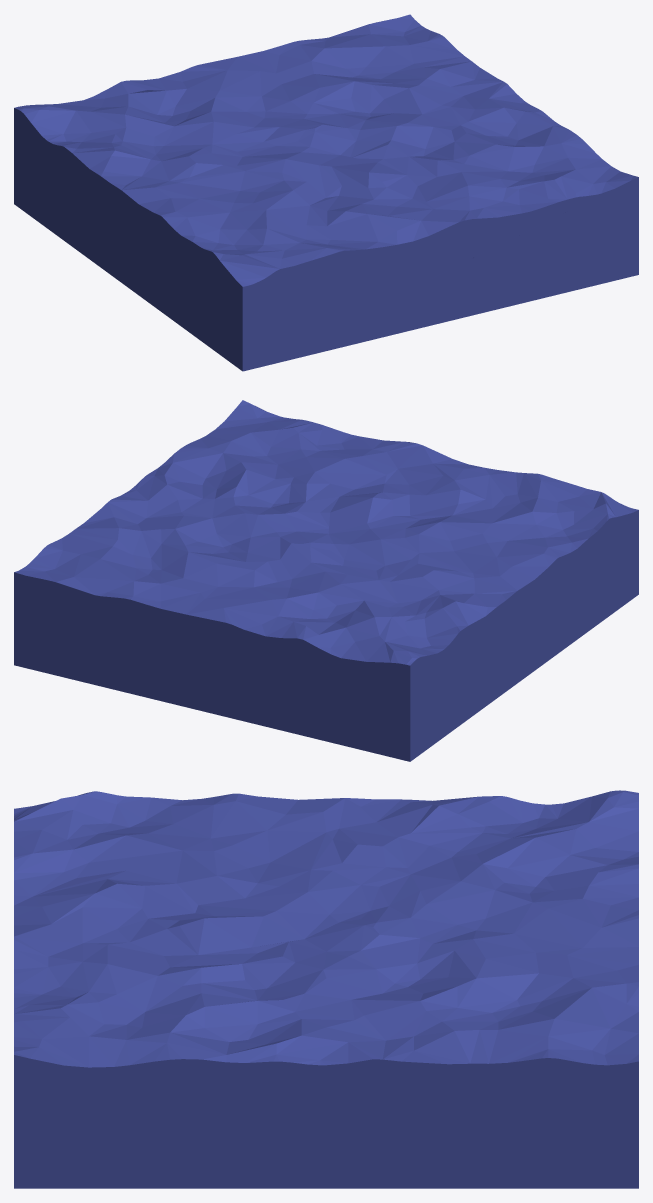
The model's file is WATER.fbx.
3 views of the same model, one above another, from view 1: azimuth 30°, elevation 25°; view 2: azimuth 150°, elevation 25°; view 3: azimuth 270°, elevation 25° (orthographic). The views are drawn at different scales.
Visible parts, largest first — view 1: pPlane1; view 2: pPlane1; view 3: pPlane1.
Boxes of the visible parts, left/top/right/bottom form: pPlane1: left=14, top=14, right=638, bottom=371; pPlane1: left=14, top=400, right=638, bottom=761; pPlane1: left=14, top=790, right=638, bottom=1188.
Bounding box in the file's own units: 24 × 5.81 × 24.
